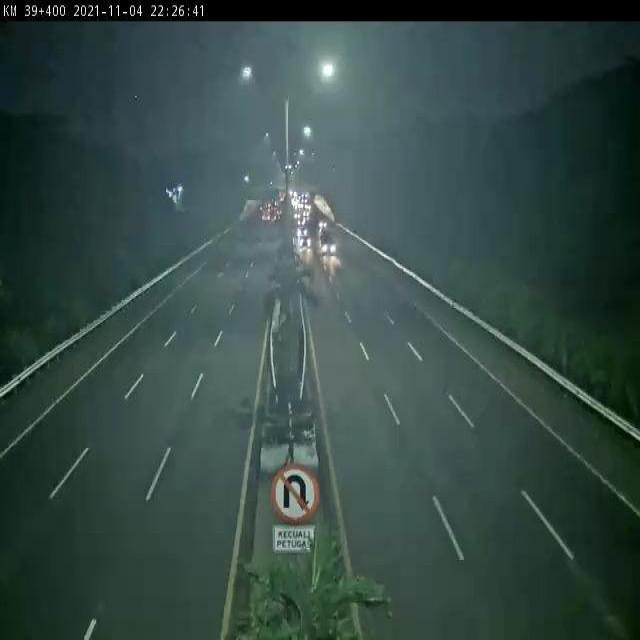car: (318, 229, 343, 259), (296, 232, 313, 253)
